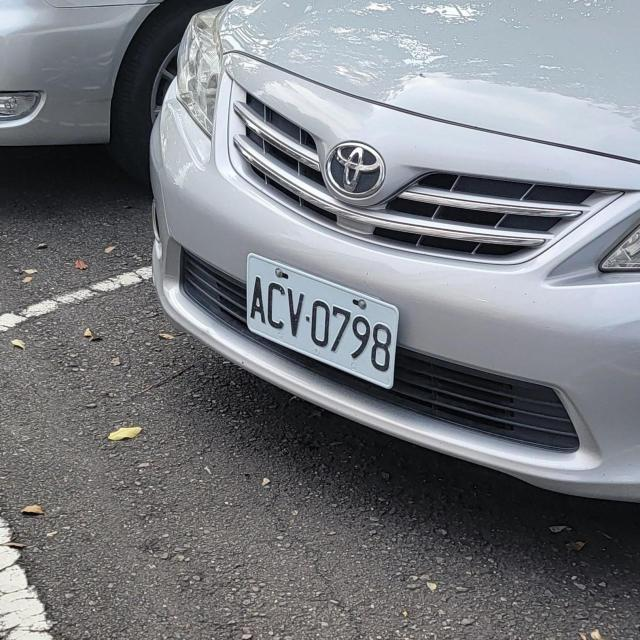W: (242, 256, 402, 388)
